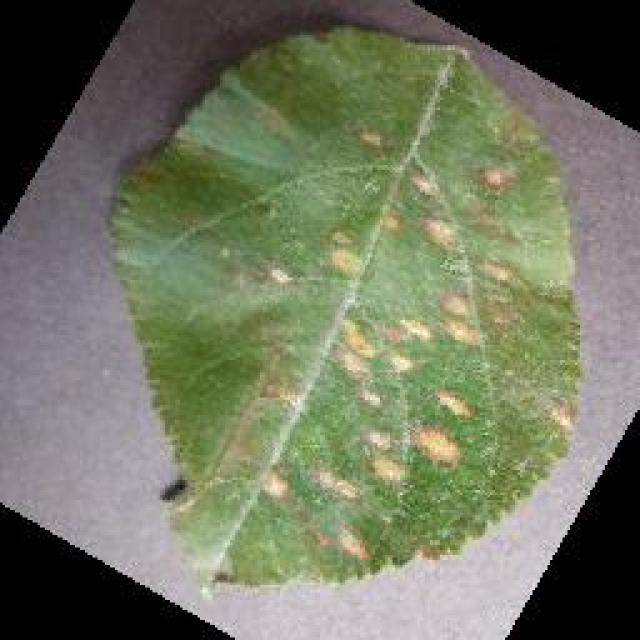apple healthy: (103, 20, 585, 595)
